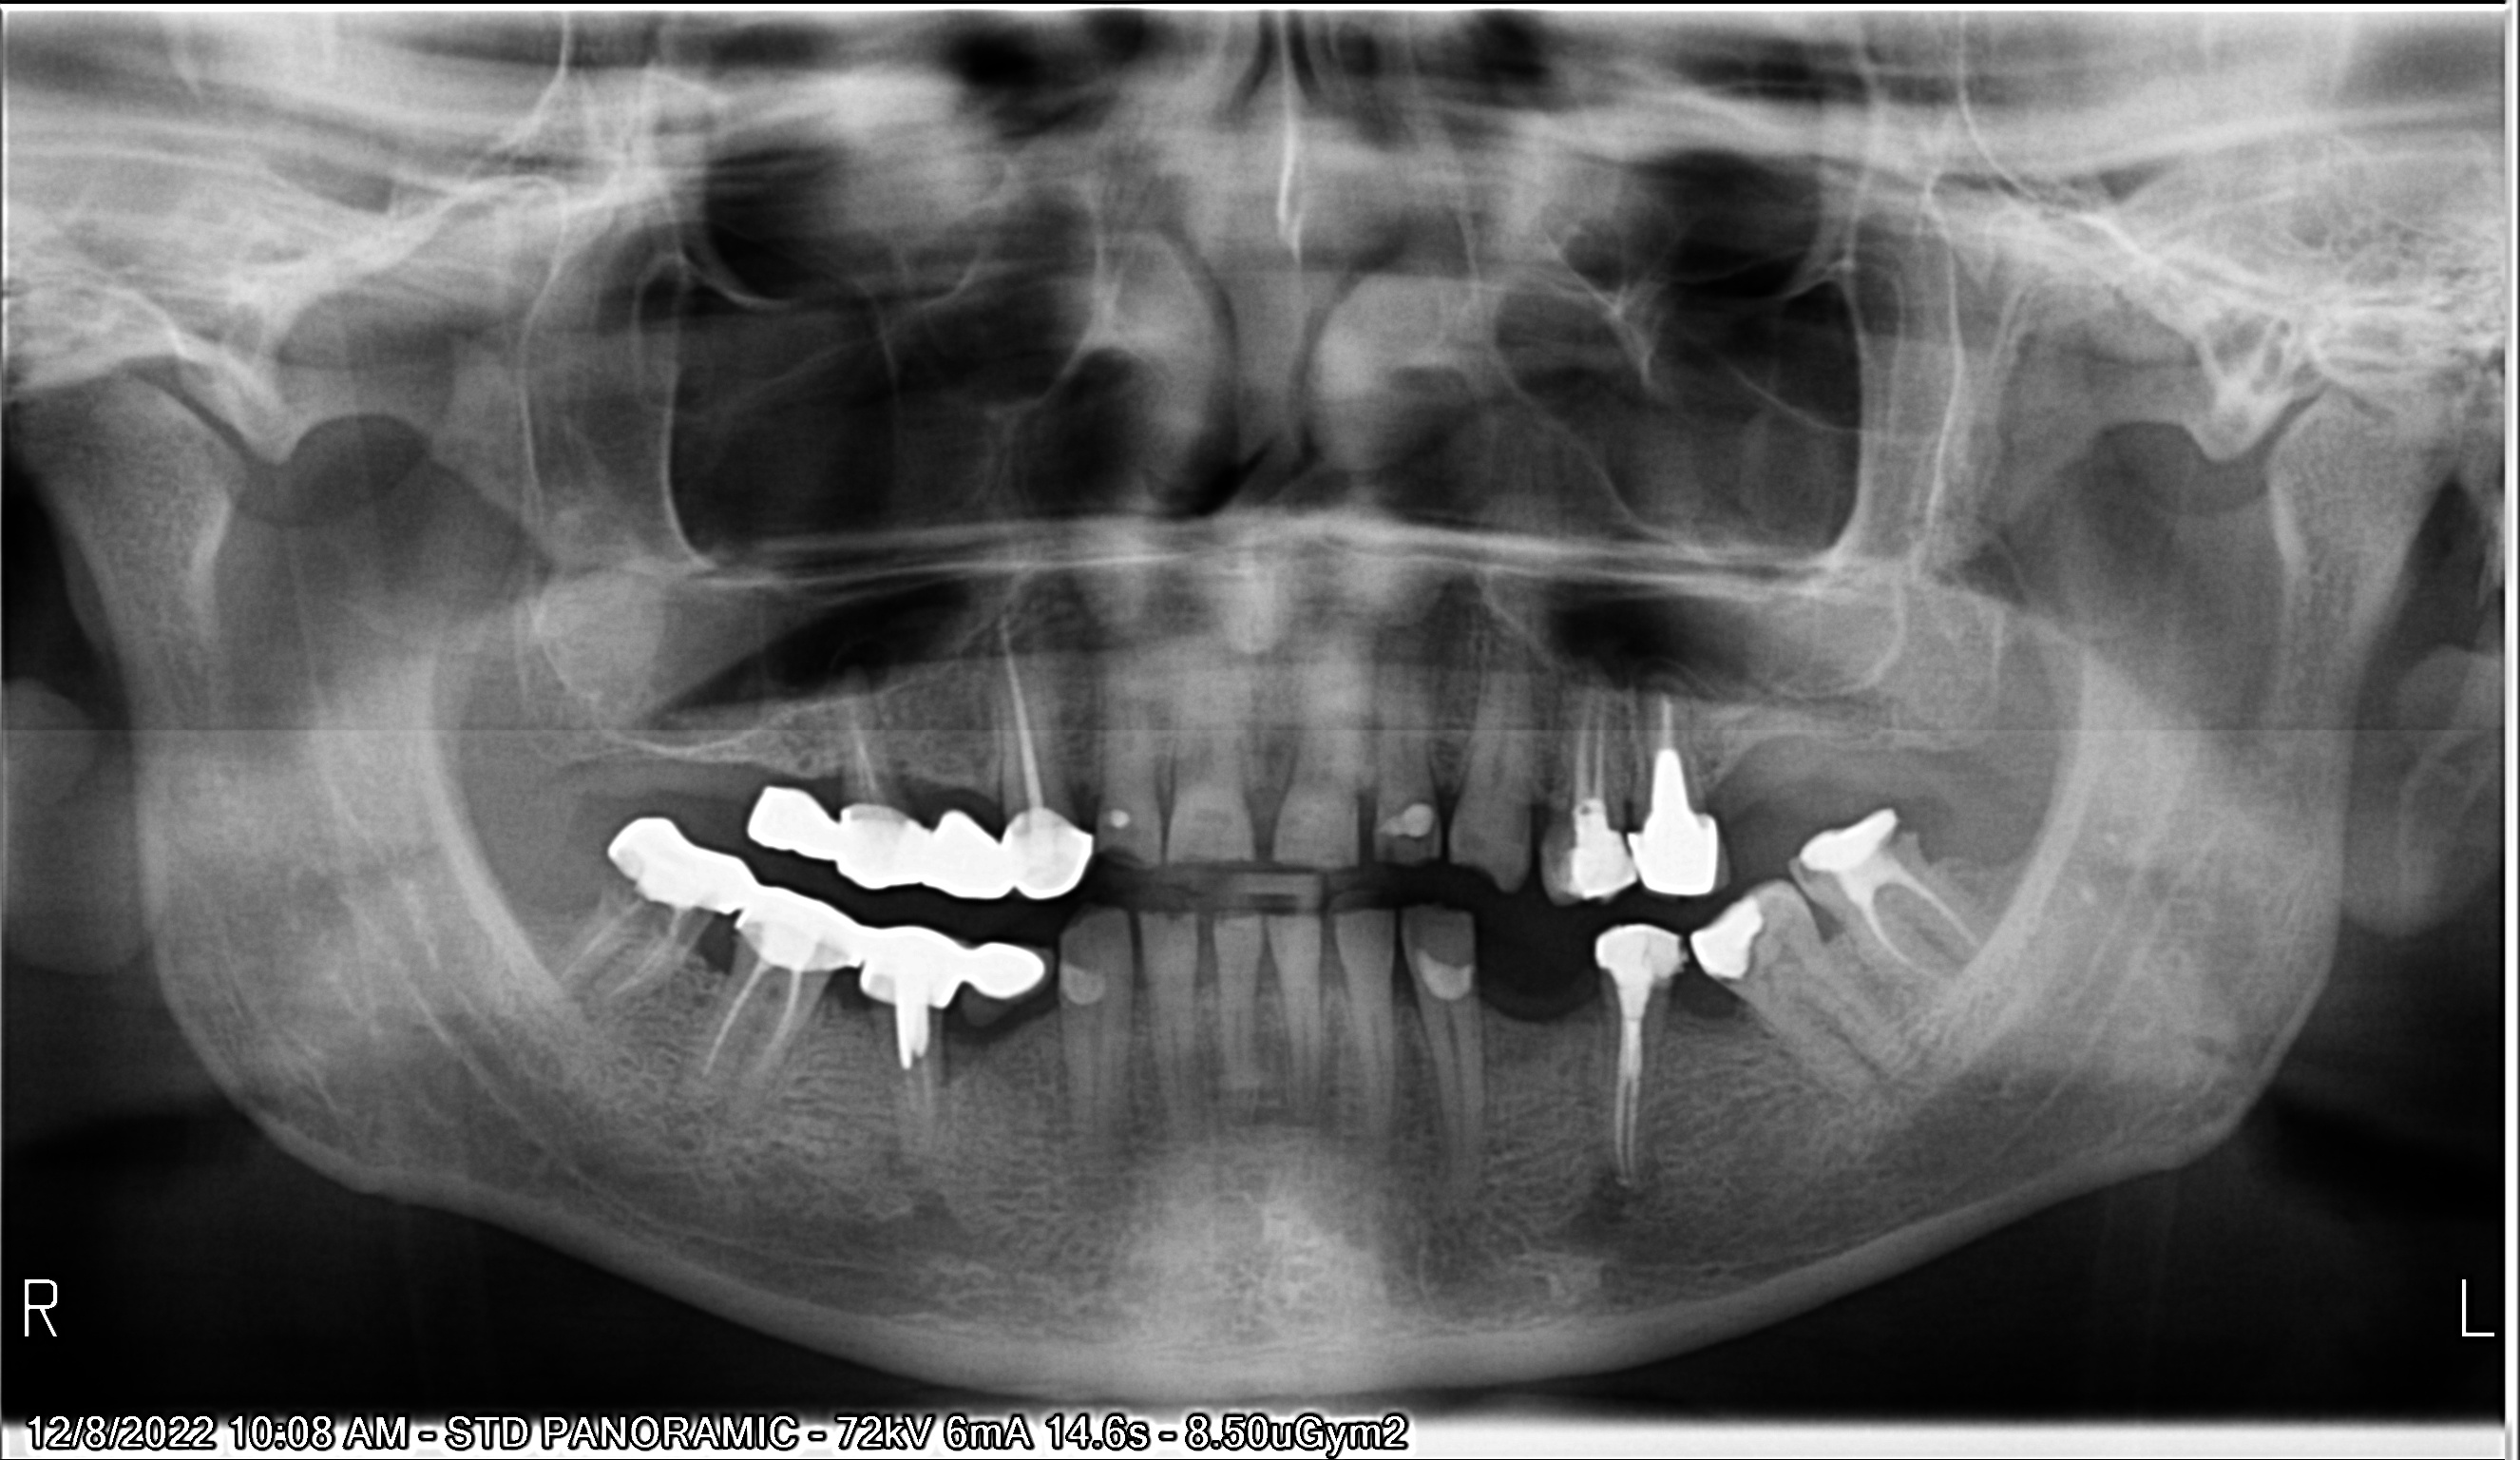CAR: (575, 845, 650, 918), (1869, 791, 1935, 871), (1785, 852, 1843, 906)
END: (518, 883, 696, 999), (1817, 885, 2008, 987), (691, 954, 827, 1098), (1596, 996, 1669, 1191), (1540, 652, 1629, 808), (986, 589, 1046, 813), (821, 650, 886, 817), (886, 1032, 952, 1161), (1638, 650, 1695, 754)
OBT: (1674, 892, 1794, 1006), (1575, 914, 1692, 1010), (1549, 798, 1643, 914), (1771, 806, 1928, 867), (1402, 944, 1497, 1013), (1042, 949, 1125, 1024), (1365, 789, 1447, 857), (1084, 803, 1143, 848)
PRR: (608, 784, 1061, 1027), (736, 779, 1122, 899), (1634, 751, 1726, 907)
